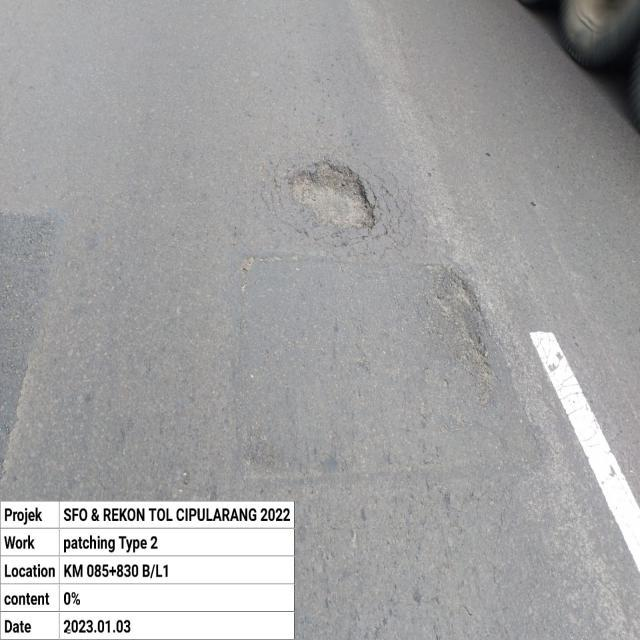Buraco: (284, 158, 382, 232)
